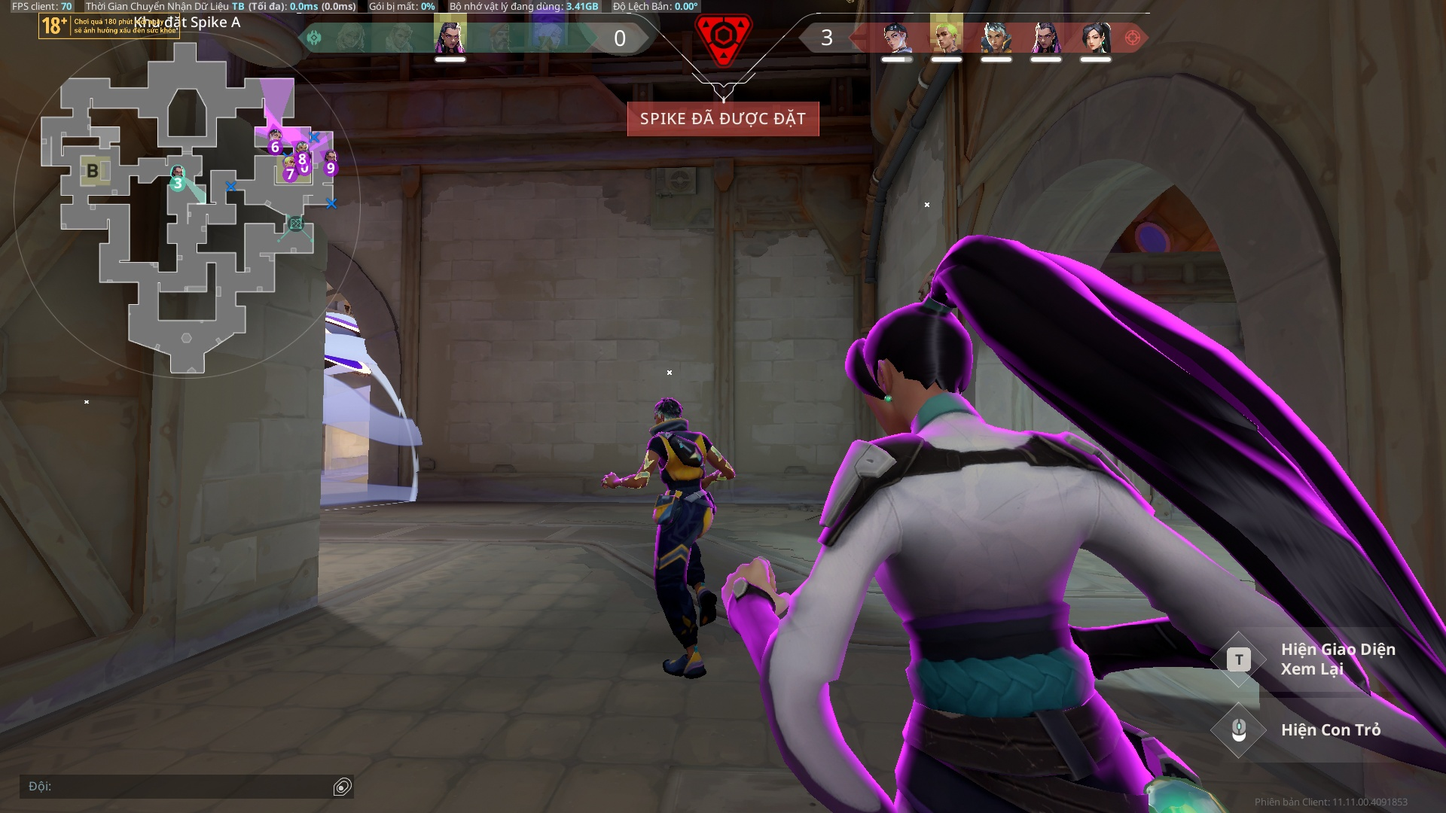body: (850, 426, 1164, 730), (651, 422, 718, 495)
head: (840, 304, 990, 429), (648, 397, 697, 434)
